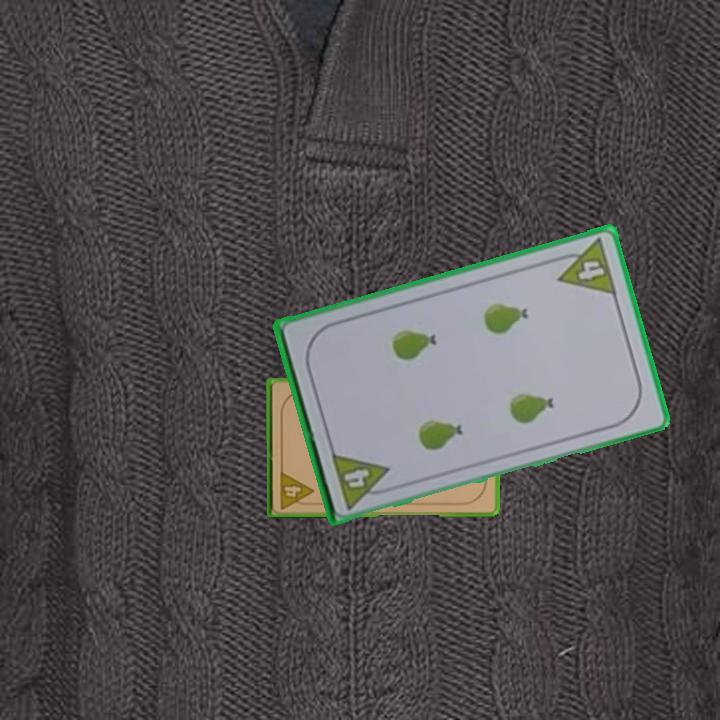4p: (549, 235, 620, 298), (328, 448, 396, 512), (276, 467, 316, 512)
